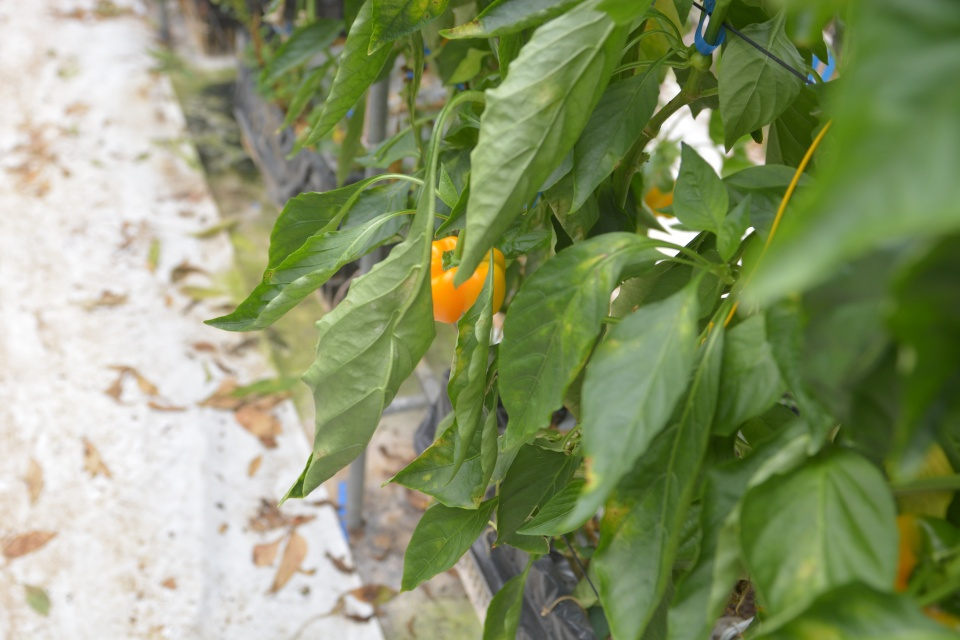fruit: (428, 235, 508, 325)
pedicle: (440, 248, 463, 271)
